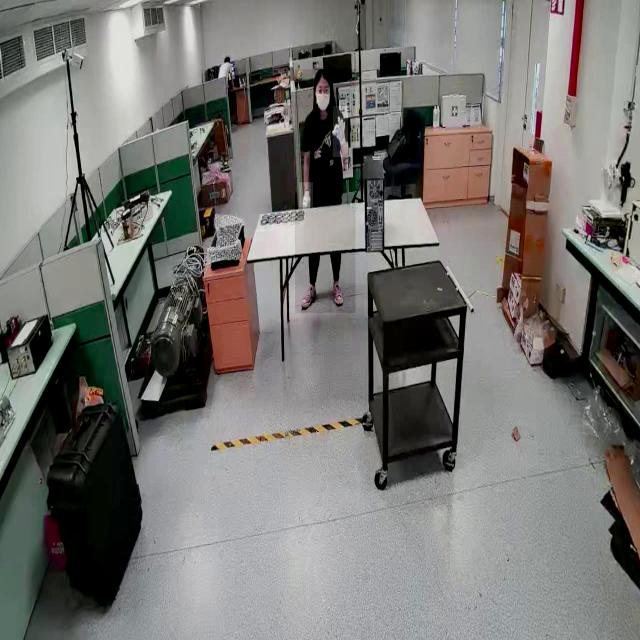face_mask: (313, 74, 331, 114)
hand_glove: (332, 106, 348, 157), (299, 182, 313, 208)
head_nohelmet: (314, 68, 334, 84), (224, 55, 230, 61)
person: (294, 69, 356, 314)
shoes: (300, 277, 320, 312), (332, 277, 346, 306)
